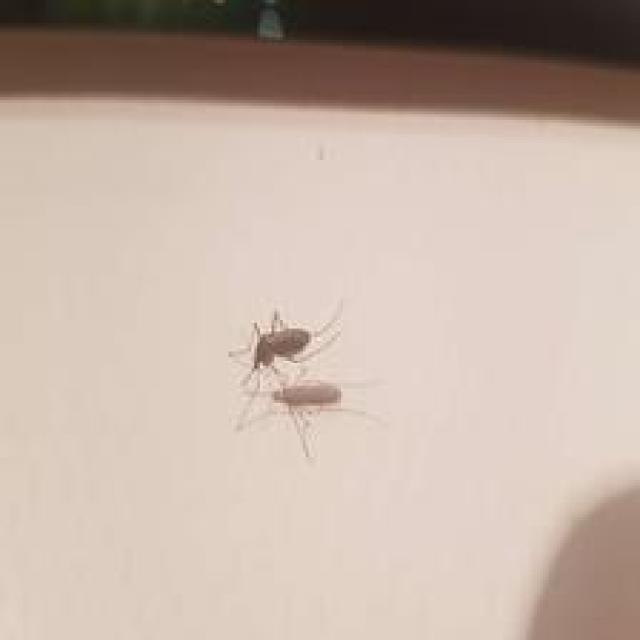Culex: (227, 299, 344, 390)
